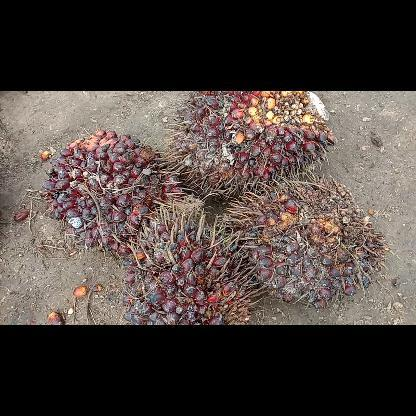TBS masak: (220, 176, 394, 308), (166, 91, 336, 197), (43, 129, 186, 255), (122, 201, 258, 323)
